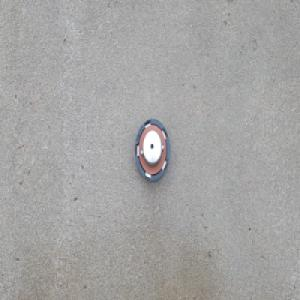FuelCap: (136, 118, 173, 185)
